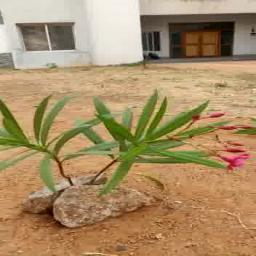OLEANDER: (0, 86, 255, 188)
